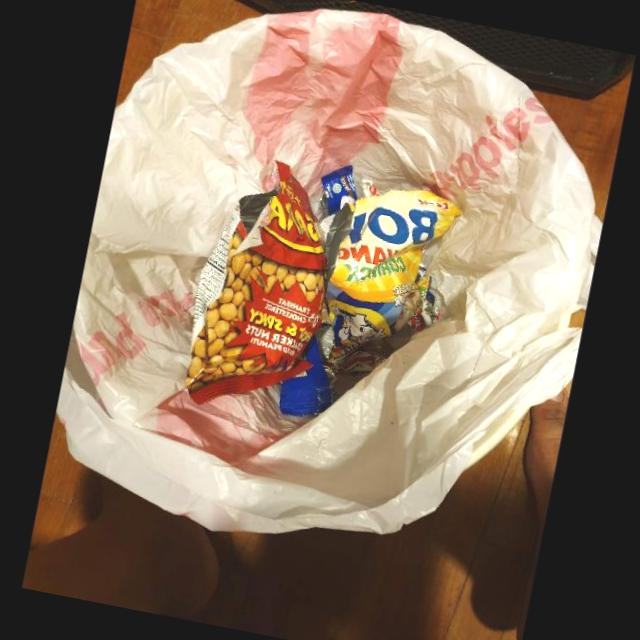bao_bi_thuc_pham: (185, 161, 327, 406), (317, 190, 462, 363), (280, 335, 332, 417), (322, 166, 358, 216), (328, 351, 385, 373), (412, 298, 440, 331)
